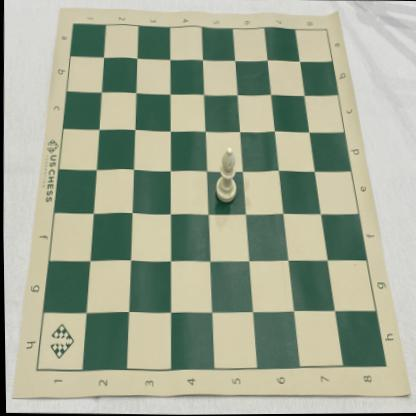white-bishop: (214, 147, 236, 204)
